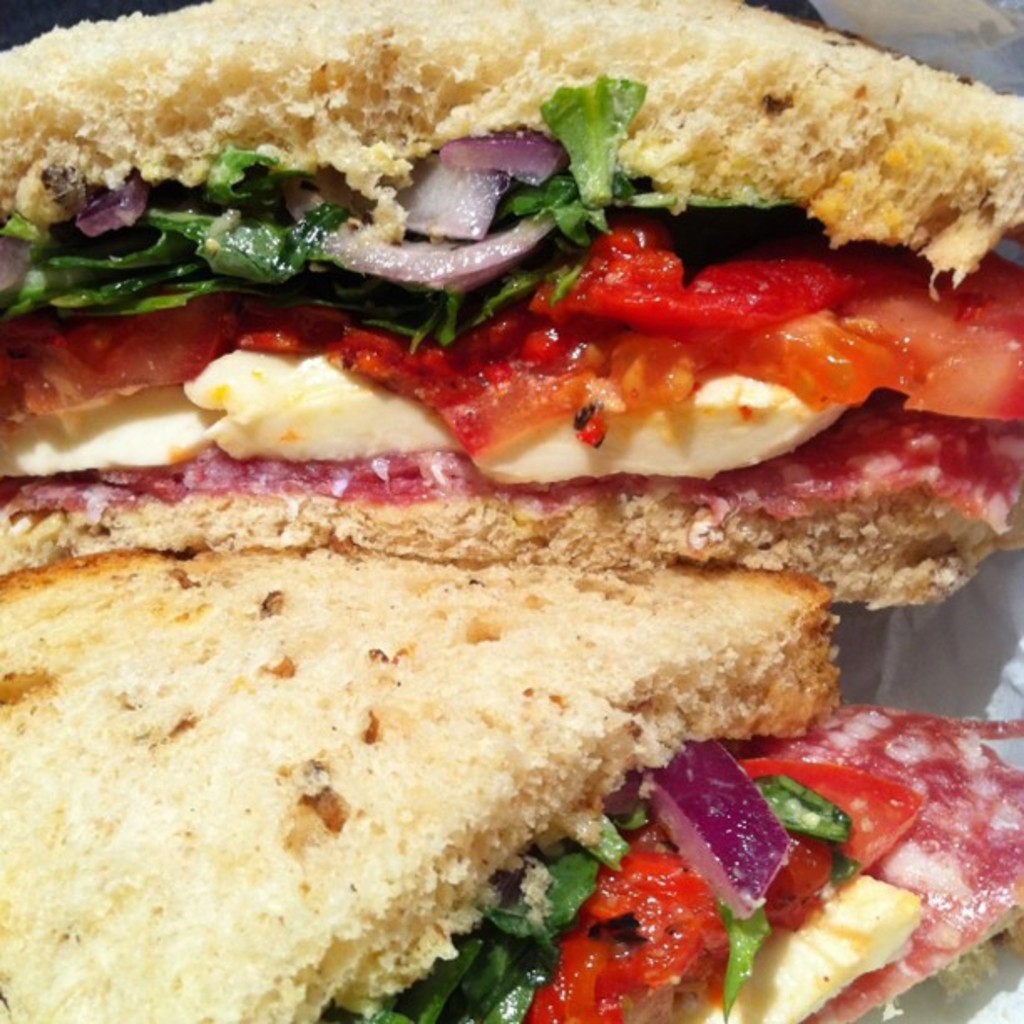Tomato: (732, 742, 931, 925), (610, 876, 742, 995), (517, 925, 625, 1022)
